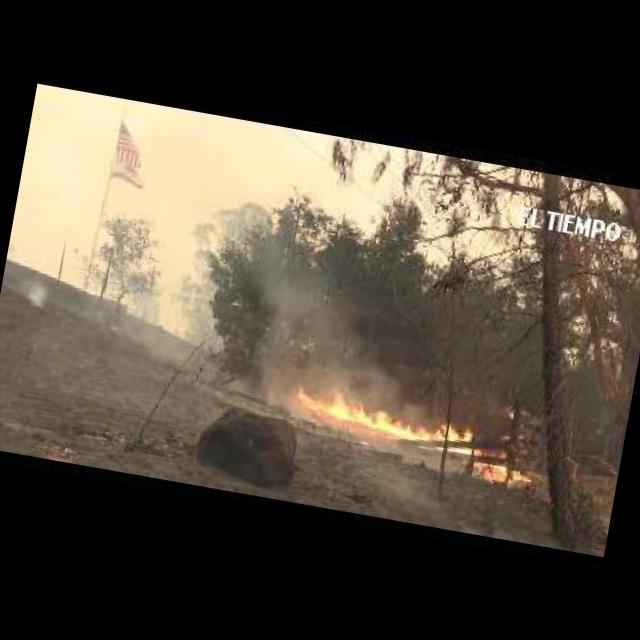fire: (288, 378, 489, 452), (477, 458, 533, 488), (498, 427, 524, 457), (506, 408, 514, 418)
smoke: (244, 244, 408, 398), (22, 272, 59, 312)
